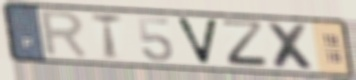5: (134, 15, 175, 62)
R: (39, 8, 93, 61)
T: (89, 11, 125, 61)
V: (173, 16, 222, 67)
X: (263, 20, 320, 73)
Z: (219, 18, 273, 70)
